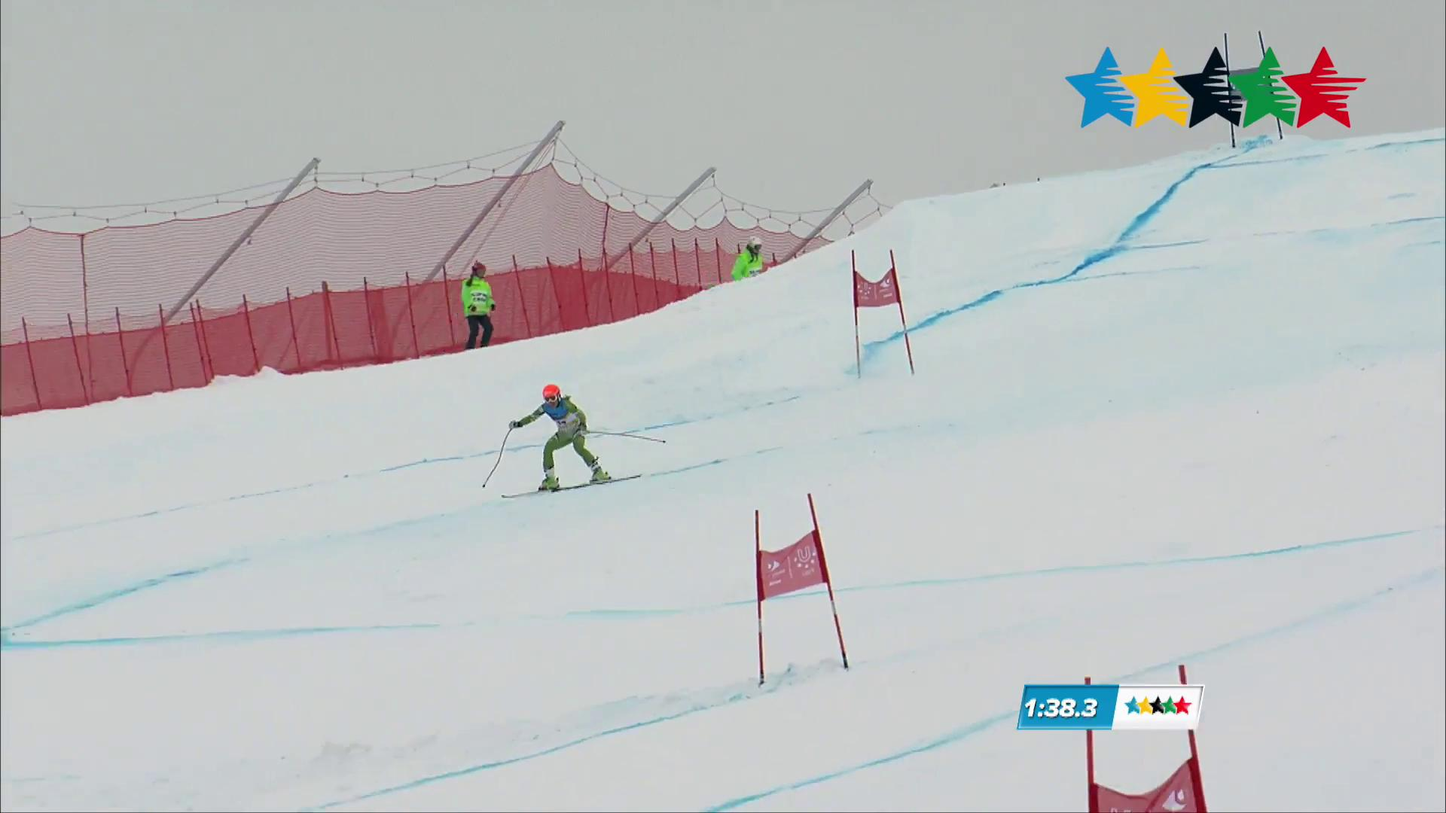gate: (755, 495, 847, 685), (851, 251, 914, 377)
